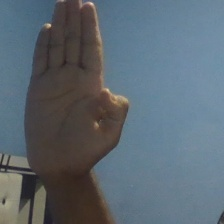B: (22, 1, 131, 180)
